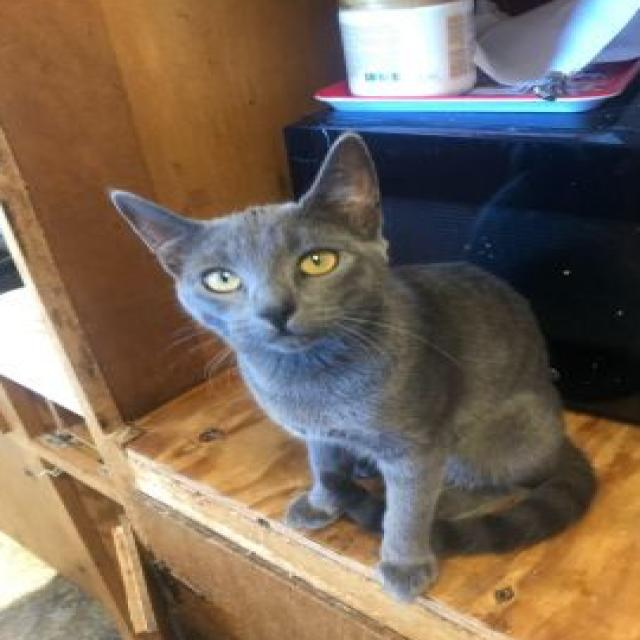Russian Blue: (104, 124, 604, 604)
